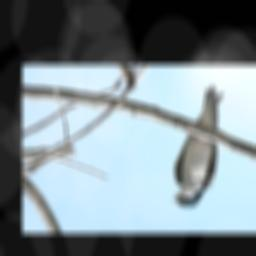Swallow: (171, 86, 223, 207)
